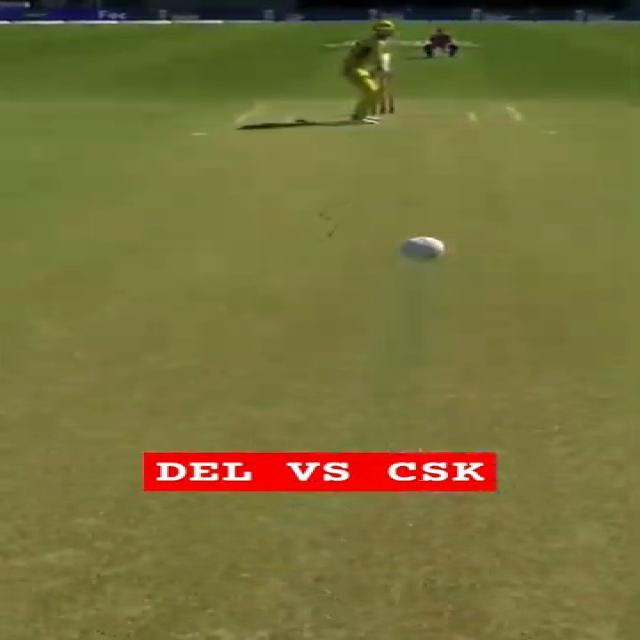ball: (400, 236, 444, 262)
